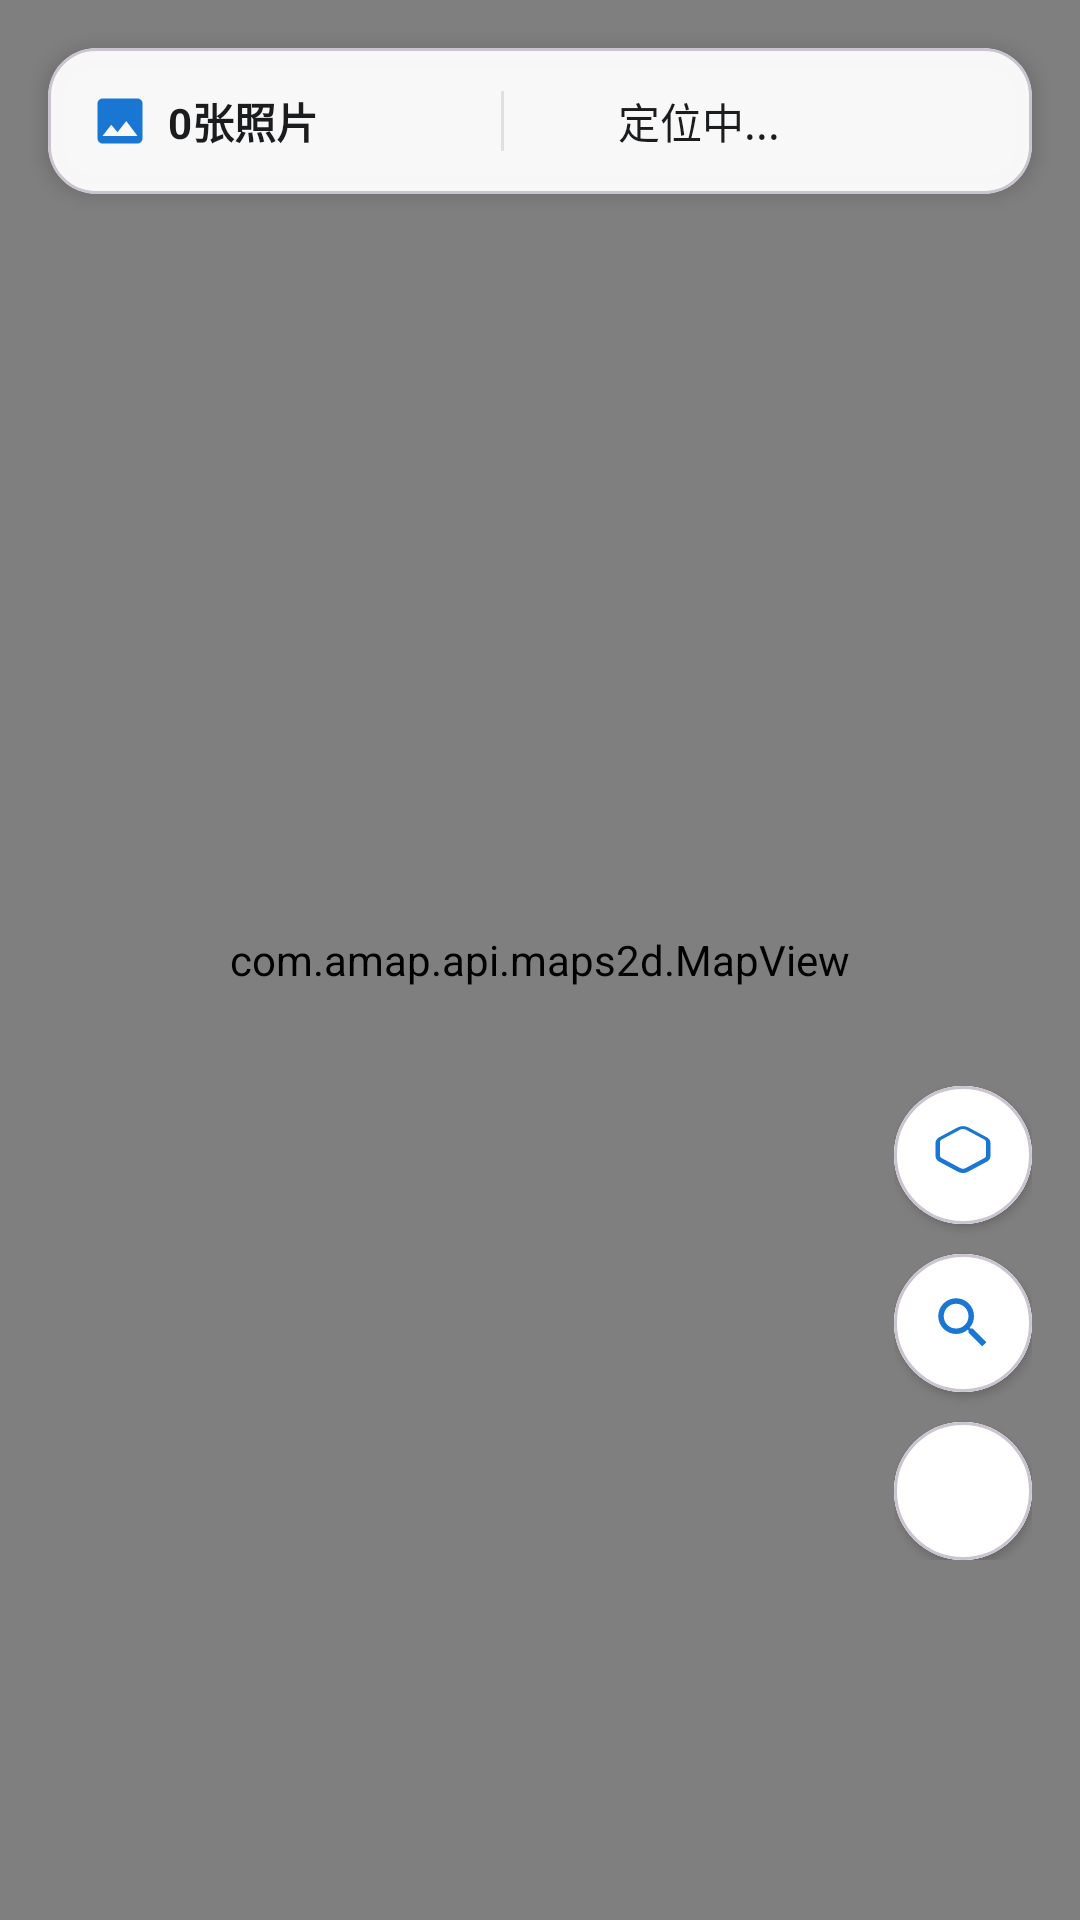

Icon click points for this 1080w x 1920h phone screenshot, format (x=x, y=y):
photo: (x=120, y=121)
search: (x=963, y=1323)
